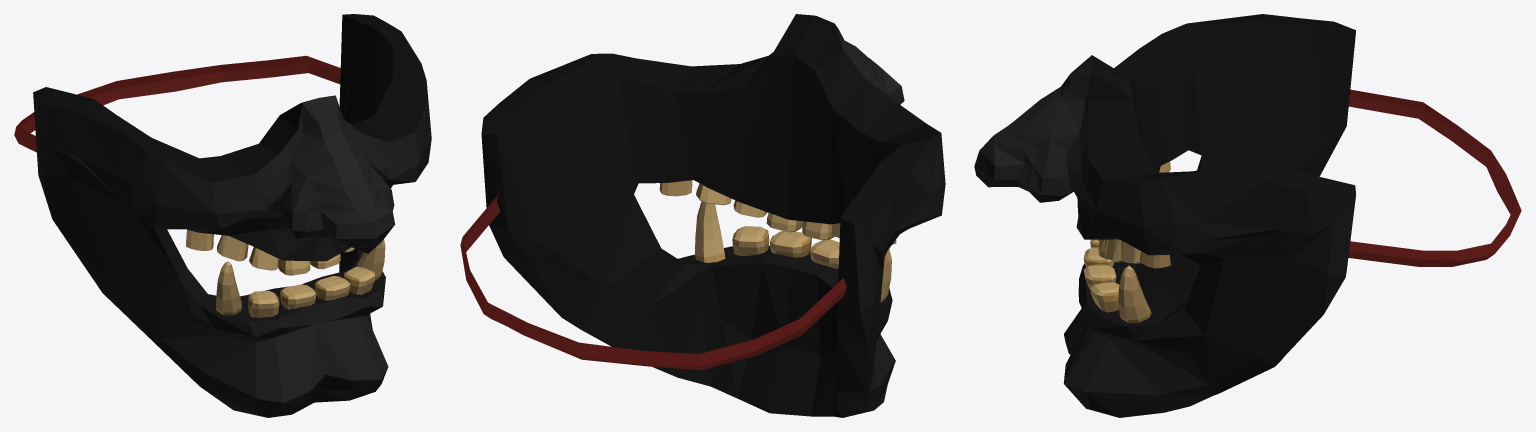
The model's file is tenguMaskBlackHalfFemale.glb.
3 views of the same model, side by side, from view 1: azimuth 30°, elevation 25°; view 2: azimuth 150°, elevation 25°; view 3: azimuth 270°, elevation 25° (orthographic). The views are drawn at different scales.
Parts seen in each view (by area): view 1: tenguMaskBlackHalfFemale; view 2: tenguMaskBlackHalfFemale; view 3: tenguMaskBlackHalfFemale.
Part boxes in pixels (x1=…): tenguMaskBlackHalfFemale: x1=14, y1=14, x2=431, y2=417; tenguMaskBlackHalfFemale: x1=460, y1=14, x2=945, y2=417; tenguMaskBlackHalfFemale: x1=974, y1=14, x2=1521, y2=417.
Size of the model in its own units: 0.2086 by 0.1845 by 0.2786.
